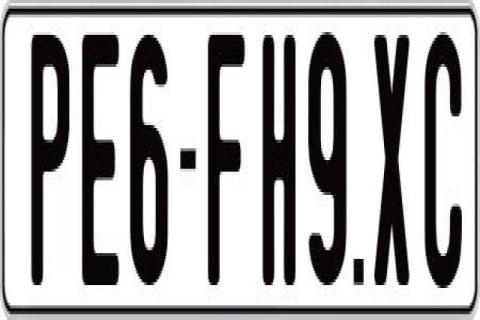0: (126, 32, 167, 296), (308, 32, 346, 302)
C: (422, 35, 462, 288)
E: (78, 35, 118, 291)
F: (209, 29, 249, 288)
H: (262, 27, 300, 280)
P: (30, 26, 70, 282)
X: (374, 32, 408, 282)
